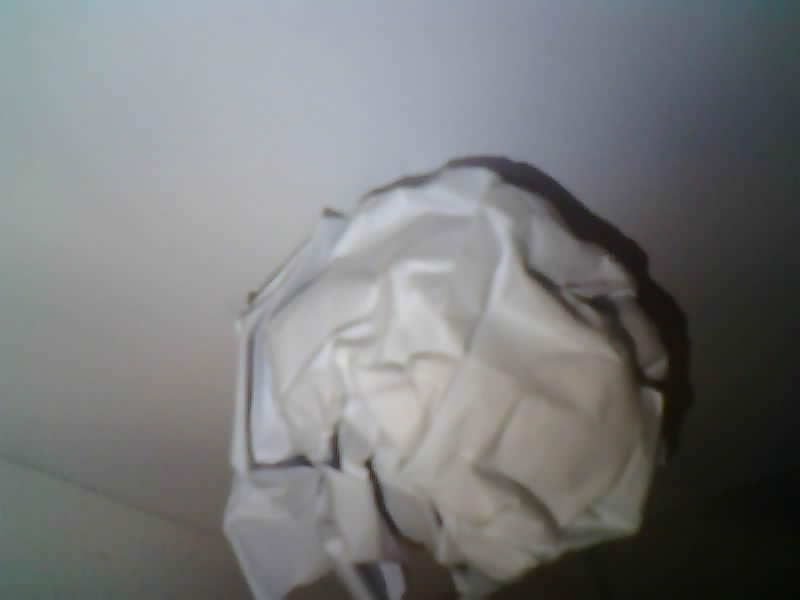biodegradable: (224, 165, 669, 599)
